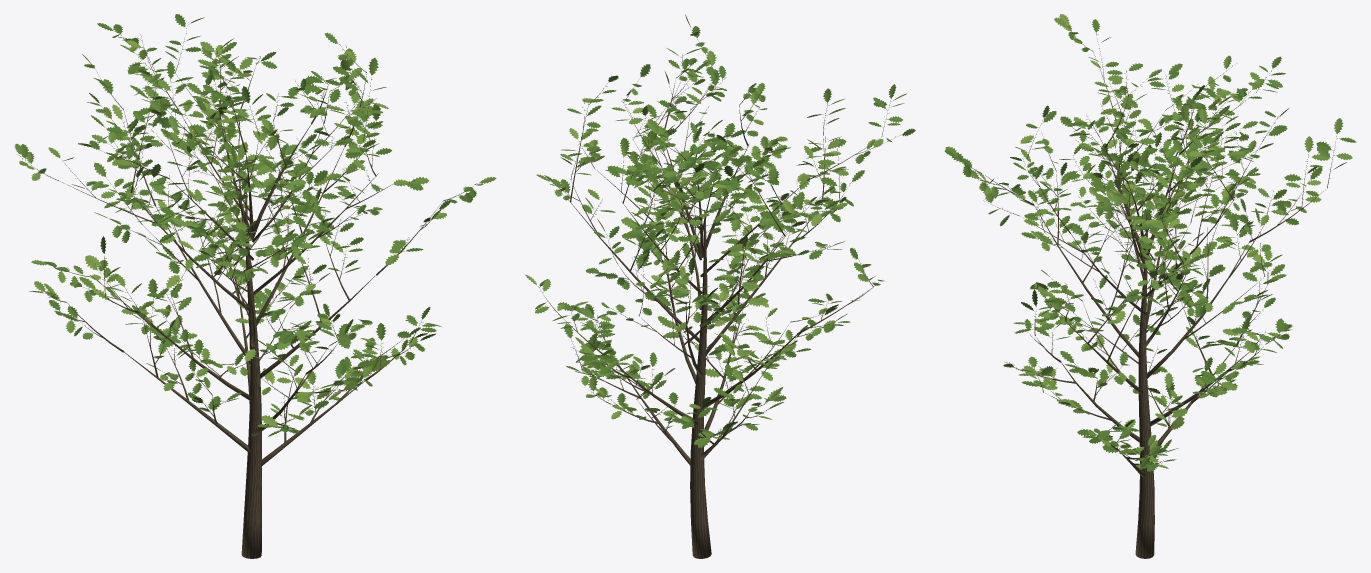
File: Sessile_Oak_Young_01_LOD1.fbx
The picture shows the model from 3 angles, left to right: view 1: azimuth 30°, elevation 25°; view 2: azimuth 150°, elevation 25°; view 3: azimuth 270°, elevation 25°; orthographic projection. The views are drawn at different scales.
Visible parts, largest first — view 1: Sessile_Oak_Young_01_Foliage_LOD1, Sessile_Oak_Young_01_Bark_LOD1; view 2: Sessile_Oak_Young_01_Foliage_LOD1, Sessile_Oak_Young_01_Bark_LOD1; view 3: Sessile_Oak_Young_01_Foliage_LOD1, Sessile_Oak_Young_01_Bark_LOD1.
Boxes of the visible parts, bbox=[...] form: Sessile_Oak_Young_01_Foliage_LOD1: bbox=[14, 14, 496, 436]; Sessile_Oak_Young_01_Bark_LOD1: bbox=[17, 22, 477, 558]; Sessile_Oak_Young_01_Foliage_LOD1: bbox=[525, 14, 915, 447]; Sessile_Oak_Young_01_Bark_LOD1: bbox=[538, 30, 900, 558]; Sessile_Oak_Young_01_Foliage_LOD1: bbox=[944, 14, 1356, 471]; Sessile_Oak_Young_01_Bark_LOD1: bbox=[958, 26, 1337, 558].
Size of the model in its own units: 633 by 800 by 621.
5 materials, 1 textured.
